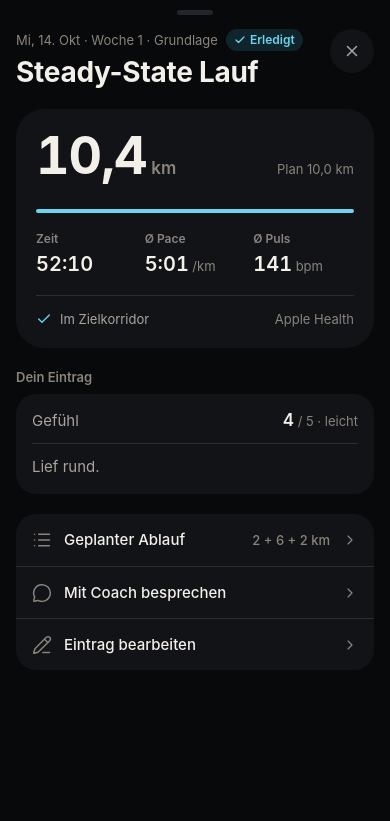
Test: SessionDetailSheet — erledigt › Geplanter Ablauf nur mit Aufteilung, klappt die Abschnitte auf
Expected: the text "2 + 6 + 2 km" is shown, left=252, top=530, right=330, bottom=550
Expected: the text "Hauptteil" is not shown
Click the button "Geplanter Ablauf 2 + 6 + 2 km".
click(125, 540)  # box left=16, top=514, right=374, bottom=566
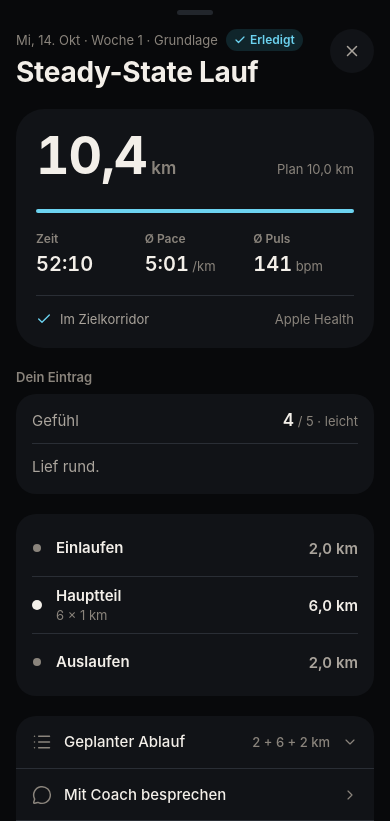
Expected: the text "Hauptteil" is shown, left=56, top=586, right=121, bottom=605
